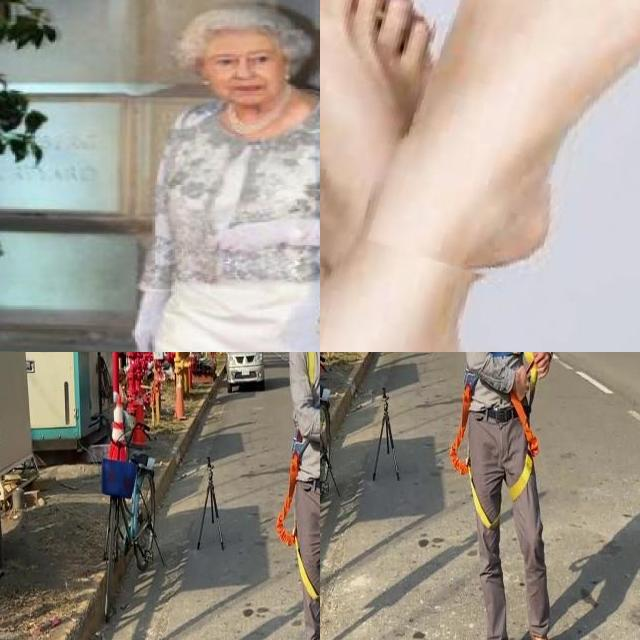Barefoots: (370, 0, 640, 314)
Harness: (450, 381, 500, 530), (277, 442, 320, 601), (509, 392, 540, 502), (491, 352, 538, 390)
face_nomask: (212, 42, 284, 97)
hand_glove: (206, 220, 304, 254), (130, 299, 172, 352)
head_nohelmet: (188, 8, 309, 50)
person: (126, 2, 320, 352)
